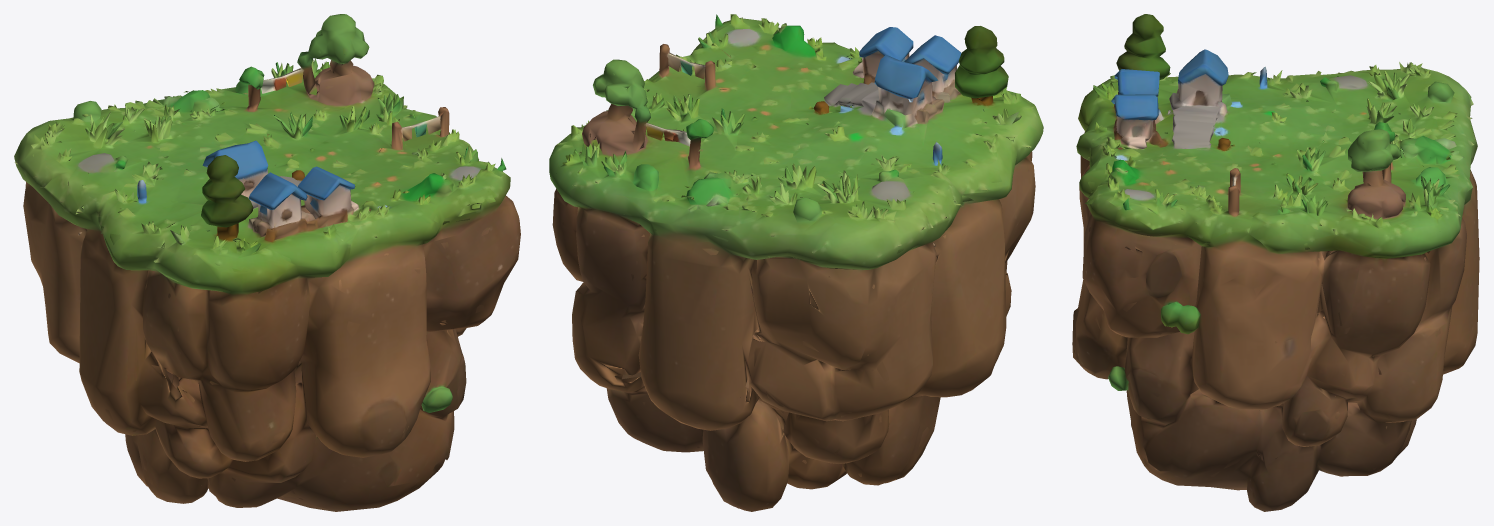
Rendered from isle-steps.glb.
The picture shows the model from 3 angles, left to right: view 1: azimuth 30°, elevation 25°; view 2: azimuth 150°, elevation 25°; view 3: azimuth 270°, elevation 25°; orthographic projection. The views are drawn at different scales.
Bounding box in the file's own units: 11 × 11.66 × 10.98.
Materials: 1 (1 with a texture image).
